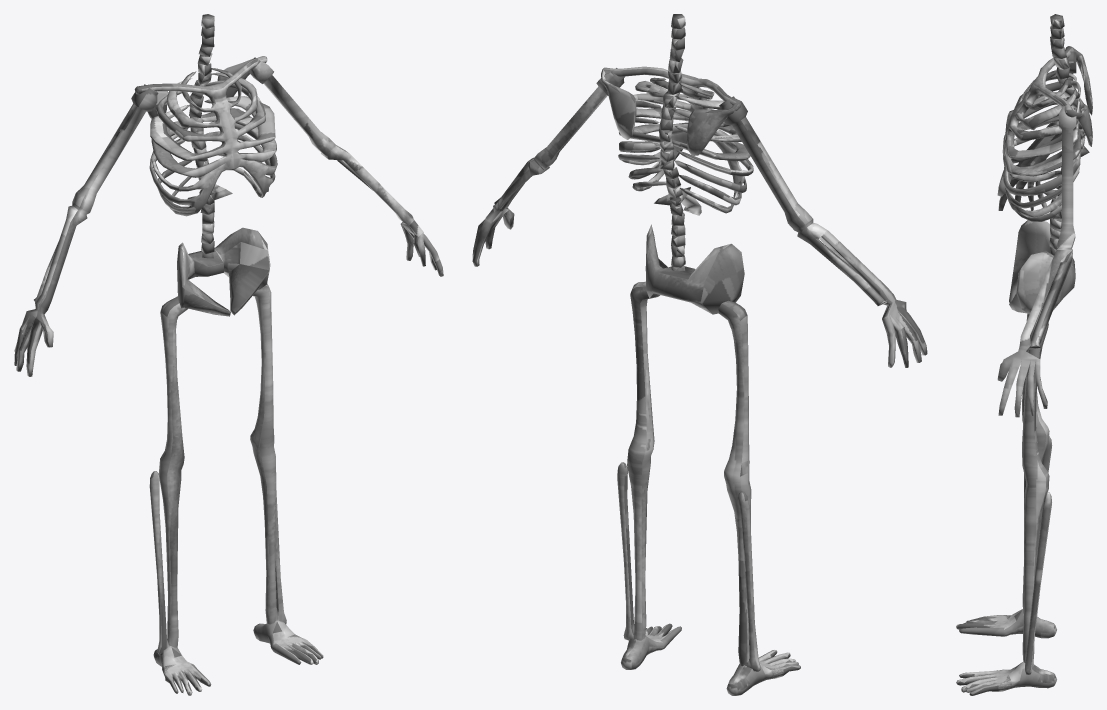
The model's file is skeleton.fbx.
3 renders of one model, left to right at view 1: azimuth 30°, elevation 25°; view 2: azimuth 150°, elevation 25°; view 3: azimuth 270°, elevation 25°, orthographic. The views are drawn at different scales.
Parts seen in each view (by area): view 1: polySurface1; view 2: polySurface1; view 3: polySurface1.
Part boxes in pixels (left/top/right/bottom): polySurface1: left=14, top=14, right=443, bottom=695; polySurface1: left=472, top=14, right=927, bottom=695; polySurface1: left=956, top=14, right=1092, bottom=695.
Size of the model in its own units: 1.16 by 1.67 by 0.3208.
Materials: 1 (1 with a texture image).
